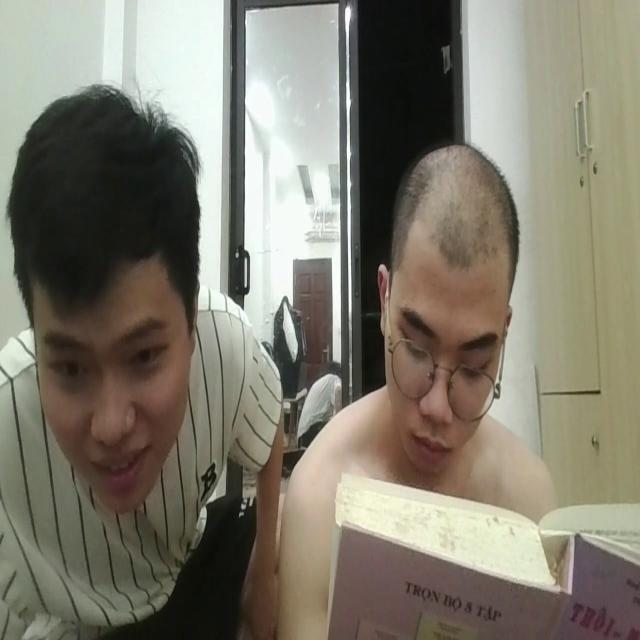book: (326, 450, 640, 640)
extra_person: (0, 86, 283, 640)
student: (283, 117, 577, 640)
